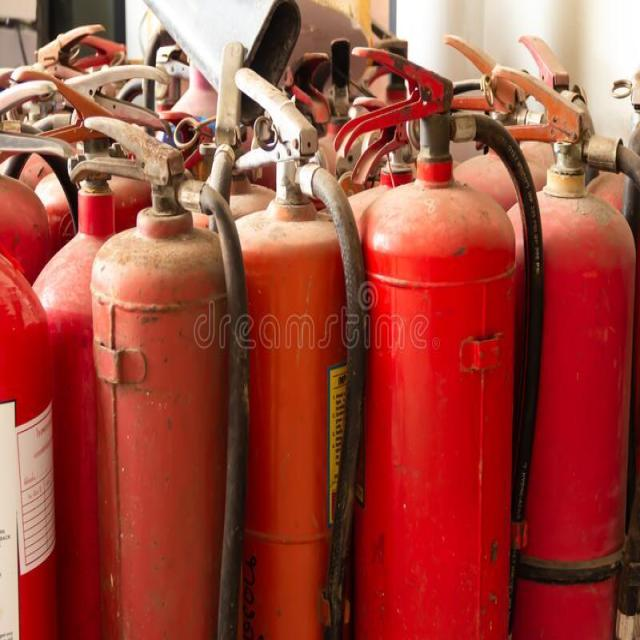fire_extinguisher: (326, 42, 548, 639), (458, 57, 639, 638), (67, 111, 253, 638), (212, 64, 376, 638), (7, 61, 155, 639), (0, 70, 87, 638)
